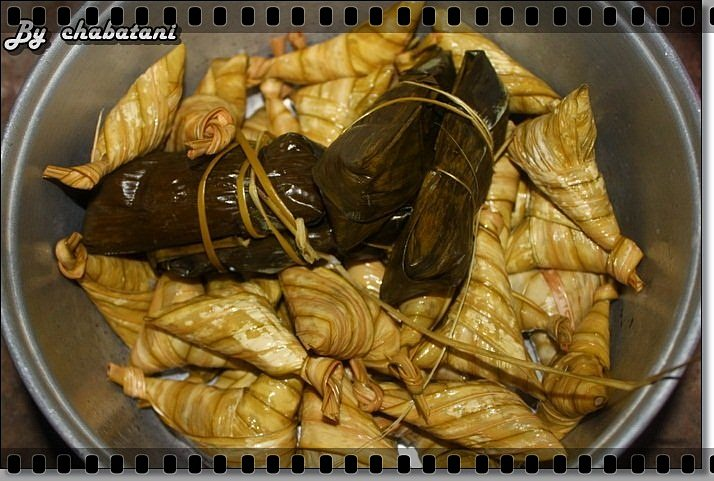kanomtom: (397, 199, 554, 401), (494, 79, 649, 278), (132, 272, 364, 402)
